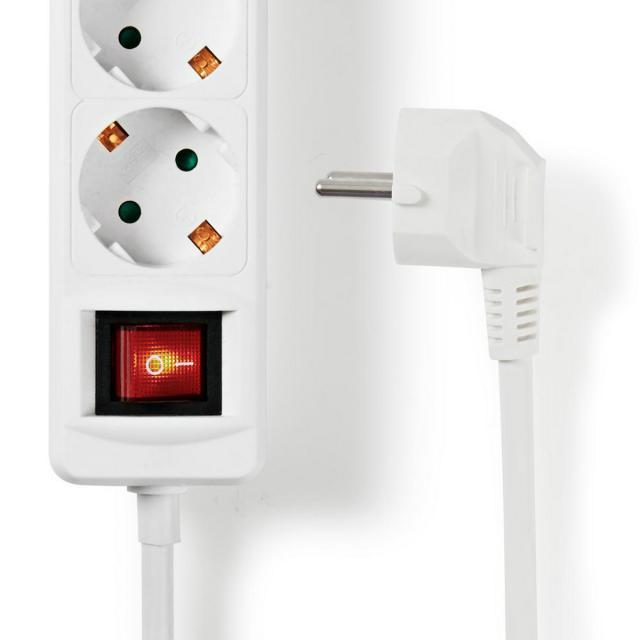typeb: (24, 1, 280, 546)
